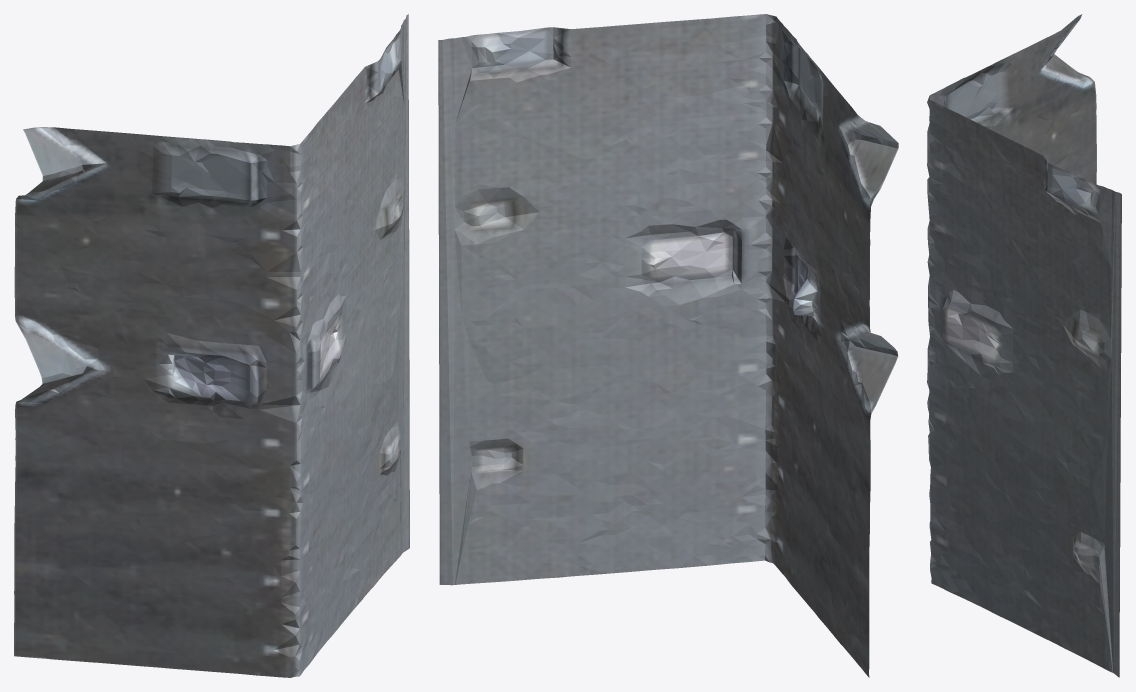
Rendered from map_80_100.obj.
The picture shows the model from 3 angles, left to right: view 1: azimuth 30°, elevation 25°; view 2: azimuth 150°, elevation 25°; view 3: azimuth 270°, elevation 25°; orthographic projection. The views are drawn at different scales.
Parts seen in each view (by area): view 1: grp1; view 2: grp1; view 3: grp1.
Boxes of the visible parts, x1=… form: grp1: x1=14, y1=14, x2=409, y2=677; grp1: x1=438, y1=14, x2=898, y2=677; grp1: x1=927, y1=14, x2=1121, y2=677.
Size of the model in its own units: 8 by 10 by 3.65.
1 material, 1 textured.
